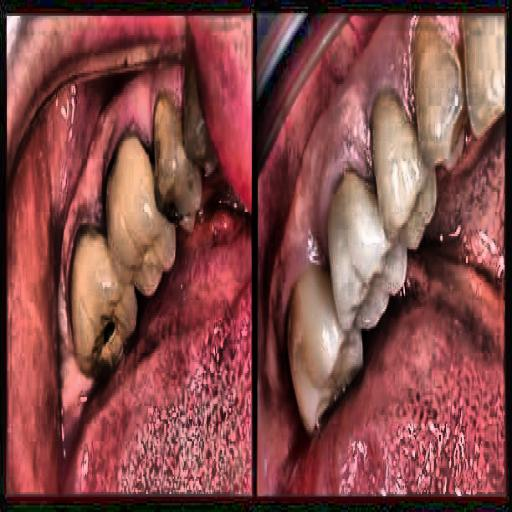Gingivitis: (22, 61, 249, 192), (260, 48, 380, 281)
